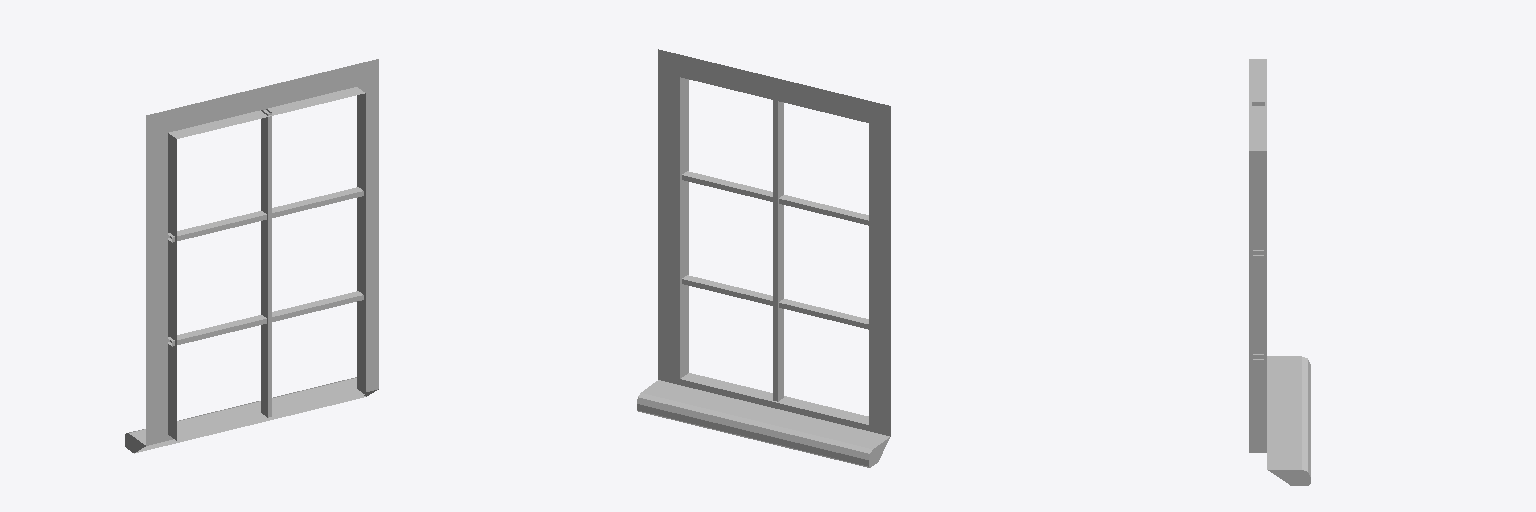
File: Window.obj
3 renders of one model, left to right at view 1: azimuth 30°, elevation 25°; view 2: azimuth 150°, elevation 25°; view 3: azimuth 270°, elevation 25°, orthographic.
Size of the model in its own units: 1.35 by 1.93 by 0.3089.